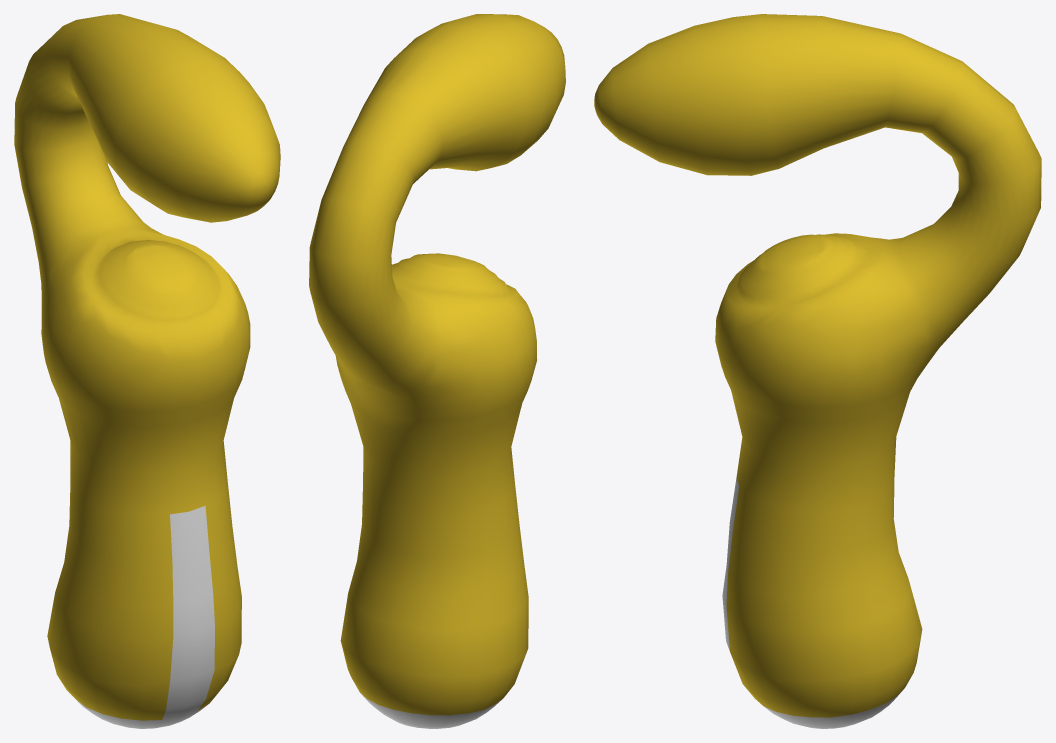
The model's file is toy2_LP.fbx.
The picture shows the model from 3 angles, left to right: view 1: azimuth 30°, elevation 25°; view 2: azimuth 150°, elevation 25°; view 3: azimuth 270°, elevation 25°; orthographic projection. The views are drawn at different scales.
Parts seen in each view (by area): view 1: 552500 v1 low; view 2: 552500 v1 low; view 3: 552500 v1 low.
Part boxes in pixels (<box>): 552500 v1 low: <box>14,14,280,728</box>; 552500 v1 low: <box>309,14,565,728</box>; 552500 v1 low: <box>594,14,1041,728</box>.
Bounding box in the file's own units: 15.84 × 58.28 × 33.83.
